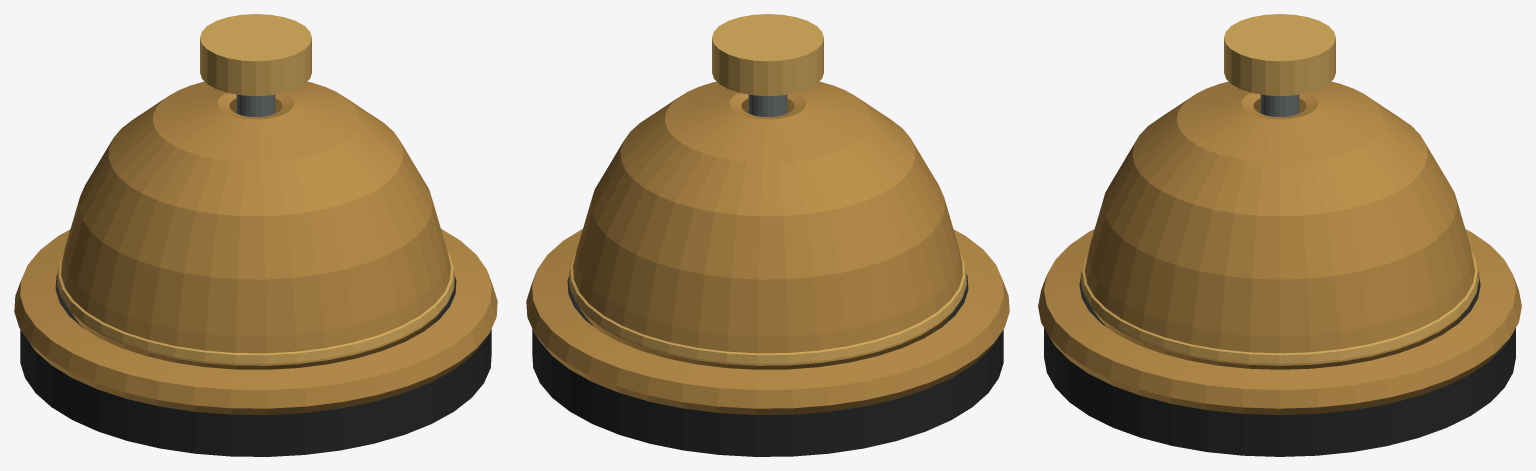
File: ServiceBell.glb
3 views of the same model, side by side, from view 1: azimuth 30°, elevation 25°; view 2: azimuth 150°, elevation 25°; view 3: azimuth 270°, elevation 25° (orthographic).
Parts seen in each view (by area): view 1: BellShell, BrassBaseRim, BakeliteBase, PressButton, PolishedLowerLip, PlungerShaft; view 2: BellShell, BrassBaseRim, BakeliteBase, PressButton, PolishedLowerLip, PlungerShaft; view 3: BellShell, BrassBaseRim, BakeliteBase, PressButton, PolishedLowerLip, PlungerShaft.
Boxes of the visible parts, x1,y1,x2,y2 form: BellShell: [61, 81, 450, 369]; BrassBaseRim: [14, 229, 497, 414]; BakeliteBase: [20, 274, 491, 456]; PressButton: [200, 14, 311, 95]; PolishedLowerLip: [57, 252, 454, 363]; PlungerShaft: [236, 94, 275, 116]; BellShell: [573, 81, 962, 369]; BrassBaseRim: [526, 229, 1009, 414]; BakeliteBase: [532, 274, 1003, 456]; PressButton: [712, 14, 823, 95]; PolishedLowerLip: [569, 252, 966, 363]; PlungerShaft: [748, 94, 787, 116]; BellShell: [1085, 81, 1474, 369]; BrassBaseRim: [1038, 229, 1521, 414]; BakeliteBase: [1044, 271, 1515, 456]; PressButton: [1224, 14, 1335, 95]; PolishedLowerLip: [1081, 252, 1478, 363]; PlungerShaft: [1260, 94, 1299, 116].
Size of the model in its own units: 1.64 by 1.19 by 1.64.
